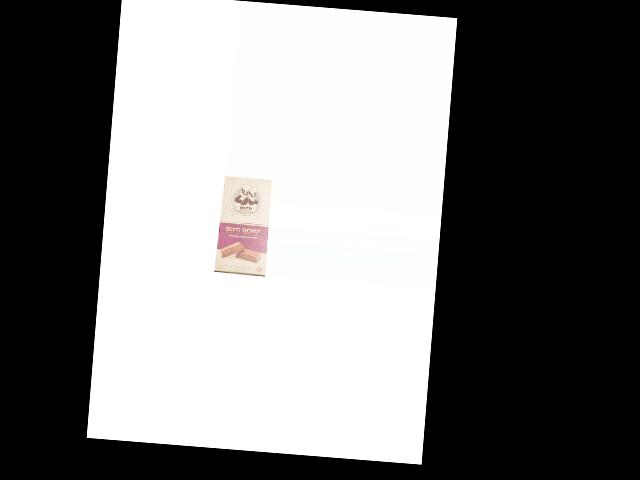chocolate: (212, 175, 271, 276)
